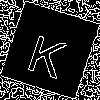K: (25, 25, 72, 80)
